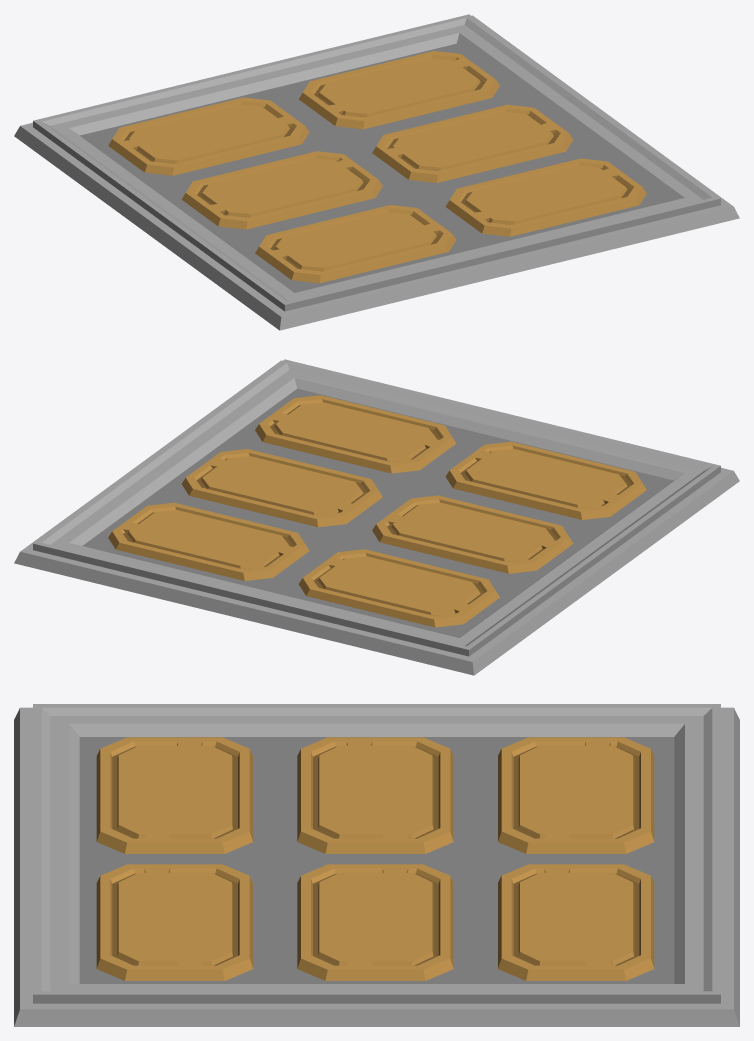
Rendered from RoofTile_Details.gltf.
3 views of the same model, one above another, from view 1: azimuth 30°, elevation 25°; view 2: azimuth 150°, elevation 25°; view 3: azimuth 270°, elevation 25° (orthographic). The views are drawn at different scales.
Parts seen in each view (by area): view 1: RoofTile_Details; view 2: RoofTile_Details; view 3: RoofTile_Details.
Part boxes in pixels (x1=…): RoofTile_Details: x1=14, y1=14, x2=739, y2=330; RoofTile_Details: x1=14, y1=359, x2=739, y2=675; RoofTile_Details: x1=14, y1=704, x2=739, y2=1026.
Bounding box in the file's own units: 2 × 0.0805 × 2.
